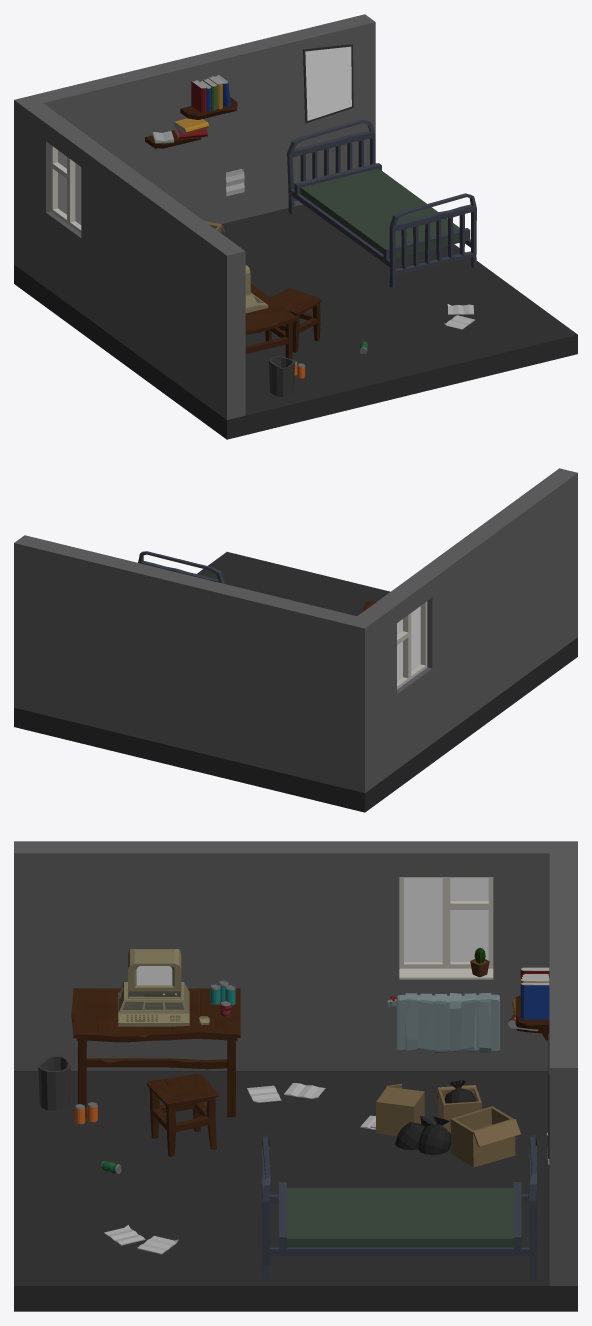
File: room_1.fbx
The picture shows the model from 3 angles, top to bottom: view 1: azimuth 30°, elevation 25°; view 2: azimuth 150°, elevation 25°; view 3: azimuth 270°, elevation 25°; orthographic projection. The views are drawn at different scales.
Parts seen in each view (by area): view 1: stena.001, pol, stena, metal crovati, matras crovati, placat, stol, musorka, stul base, glass, stul, stol base; view 2: stena, stena.001, pol, glass, metal crovati; view 3: stena.001, pol, stena, matras crovati, metal crovati, batareia, glass, stol, box.001, stol base, pc display, pc base (+9 smaller).
Part boxes in pixels (x1,y1,x2,y2): stena.001: (24,103,245,439); pol: (221,204,577,434); stena: (14,14,375,291); metal crovati: (287,119,476,288); matras crovati: (300,168,467,258); placat: (303,44,353,123); stol: (245,283,297,334); musorka: (269,356,295,396); stul base: (265,303,320,352); glass: (58,150,81,224); stul: (271,288,322,314); stol base: (245,323,292,359); stena: (14,535,375,812); stena.001: (357,468,577,804); pol: (197,552,390,615); glass: (397,606,420,681); metal crovati: (138,551,224,583); stena.001: (14,841,549,1071); pol: (14,1071,549,1311); stena: (549,841,577,1311); matras crovati: (287,1188,513,1247); metal crovati: (261,1135,537,1281); batareia: (387,993,499,1053); glass: (404,878,488,961); stol: (71,988,240,1042); box.001: (450,1106,520,1167); stol base: (78,1040,235,1117); pc display: (128,949,181,998); pc base: (118,982,189,1026).
Bounding box in the file's own units: 1020 × 511 × 1072.
